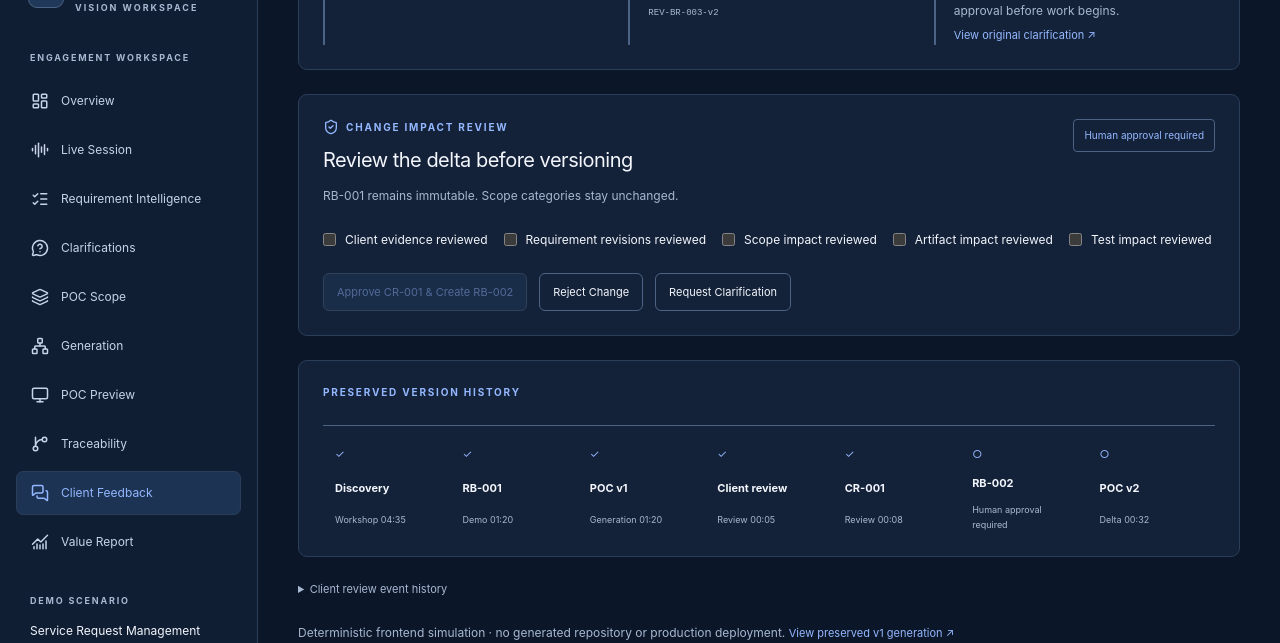
Test: feedback workspace and versioned preview › rejection and restart remain local to feedback
This screenshot has width=1280, height=643.
(page scrolled)
Click the button "Request Clarification": (723, 292) left=655, top=273, right=791, bottom=311
(page scrolled)
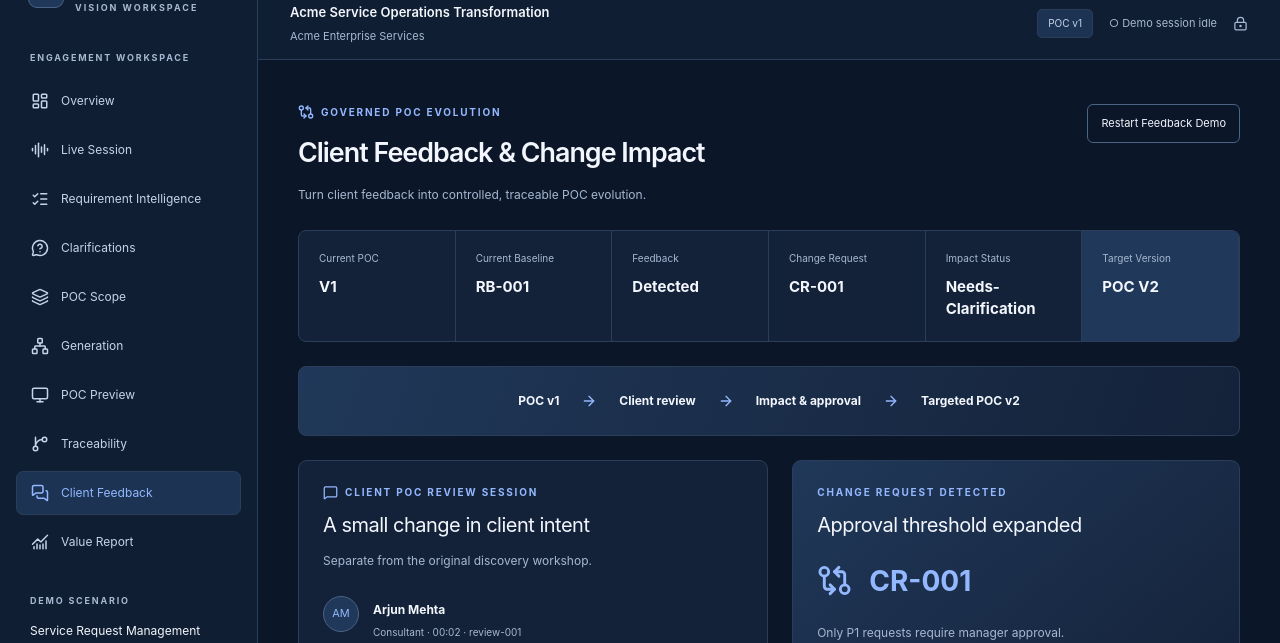
Click the button "Restart Feedback Demo": (1164, 123) left=1087, top=104, right=1240, bottom=142
(page scrolled)
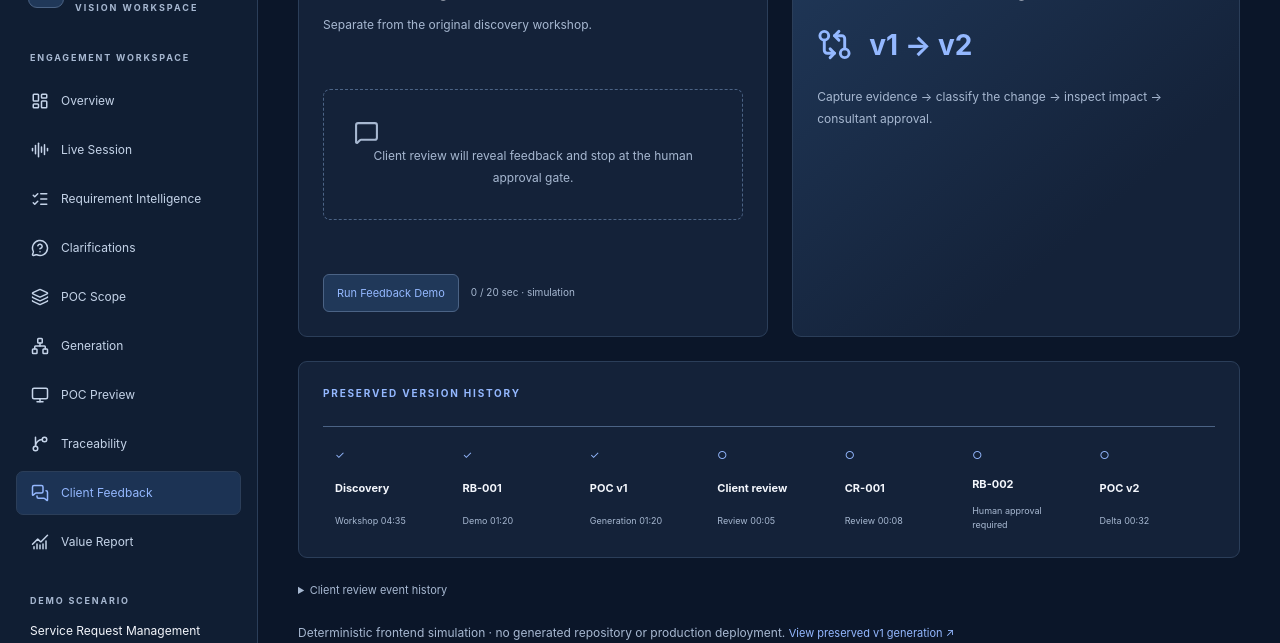
Expected: the button "Run Feedback Demo" is enabled, left=323, top=274, right=459, bottom=312
